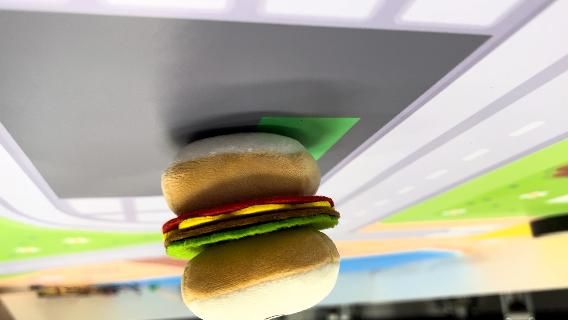sandwich: (158, 129, 344, 317)
